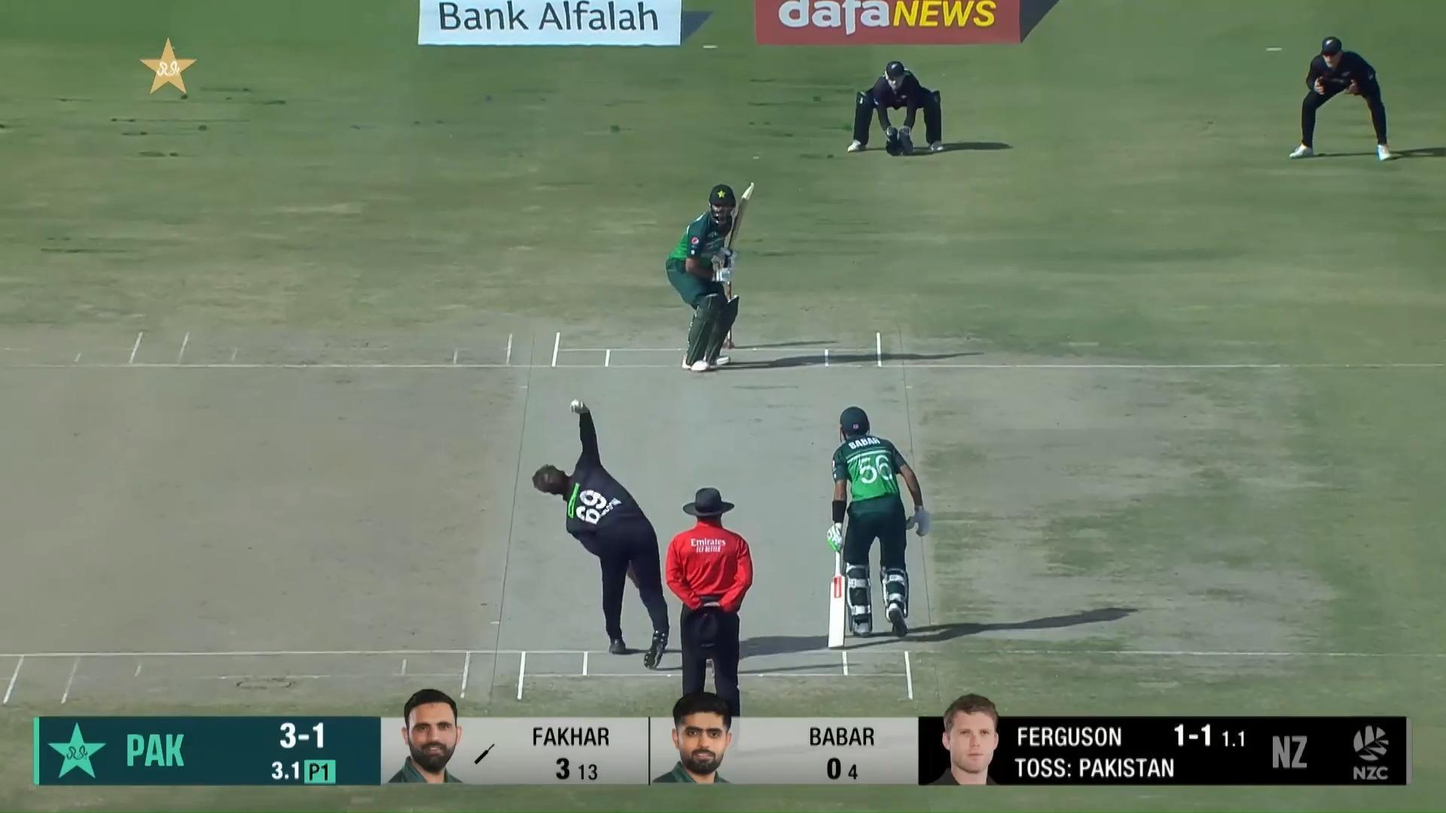BM 1: (666, 182, 755, 373)
BO: (531, 395, 673, 674)
